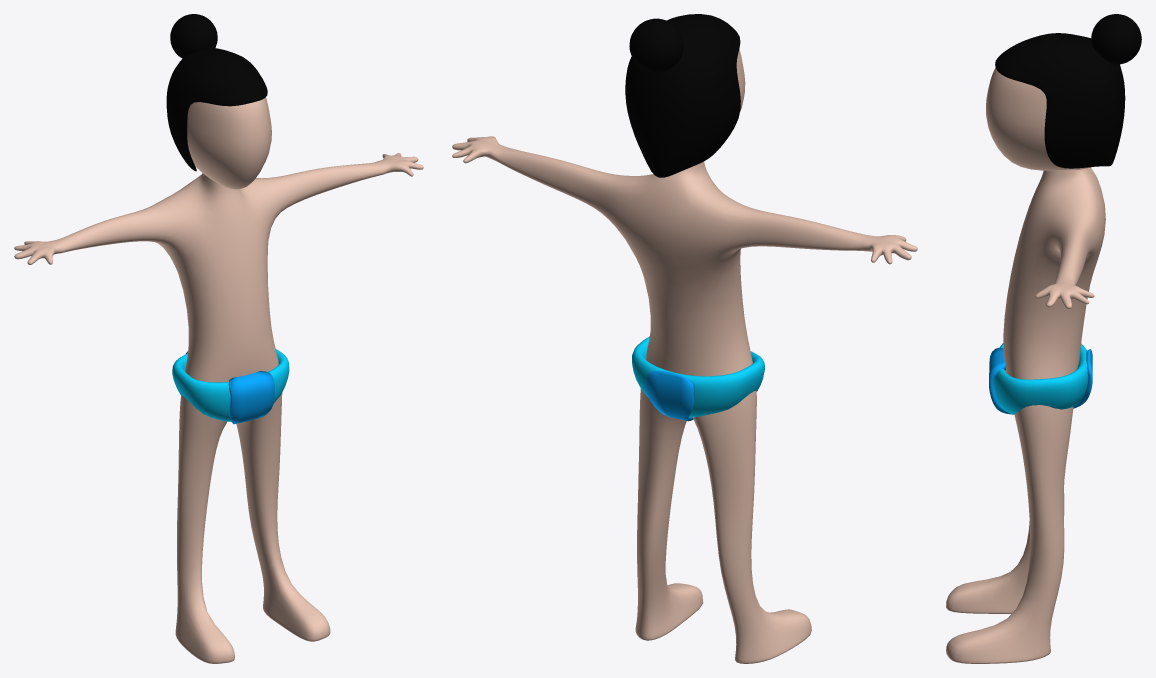
File: slim sumo.fbx
The picture shows the model from 3 angles, left to right: view 1: azimuth 30°, elevation 25°; view 2: azimuth 150°, elevation 25°; view 3: azimuth 270°, elevation 25°; orthographic projection. The views are drawn at different scales.
Parts seen in each view (by area): view 1: Cube.002, Cube.001, Cube.006, Cube.004, Cube.005, Sphere; view 2: Cube.002, Cube.006, Cube.004, Sphere, Cube.005; view 3: Cube.002, Cube.006, Cube.001, Cube.004, Sphere, Cube.005.
Boxes of the visible parts, box(x1,y1,x2,y2) form: Cube.002: box(14, 153, 423, 663); Cube.001: box(187, 97, 271, 189); Cube.006: box(166, 48, 267, 171); Cube.004: box(172, 349, 289, 421); Cube.005: box(186, 351, 274, 424); Sphere: box(170, 14, 217, 58); Cube.002: box(452, 136, 917, 663); Cube.006: box(625, 14, 740, 177); Cube.004: box(632, 336, 764, 417); Sphere: box(629, 18, 683, 72); Cube.005: box(646, 370, 694, 421); Cube.002: box(946, 167, 1105, 663); Cube.006: box(995, 33, 1125, 168); Cube.001: box(986, 68, 1091, 170); Cube.004: box(993, 343, 1088, 414); Sphere: box(1091, 14, 1141, 64); Cube.005: box(989, 347, 1092, 414).
Size of the model in its own units: 178 by 244 by 70.52.
